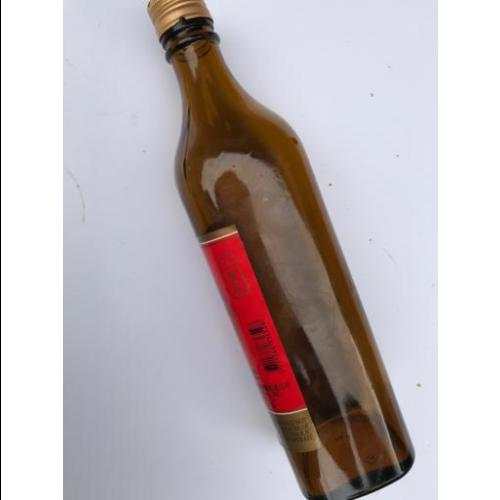glass: (150, 1, 416, 498)
